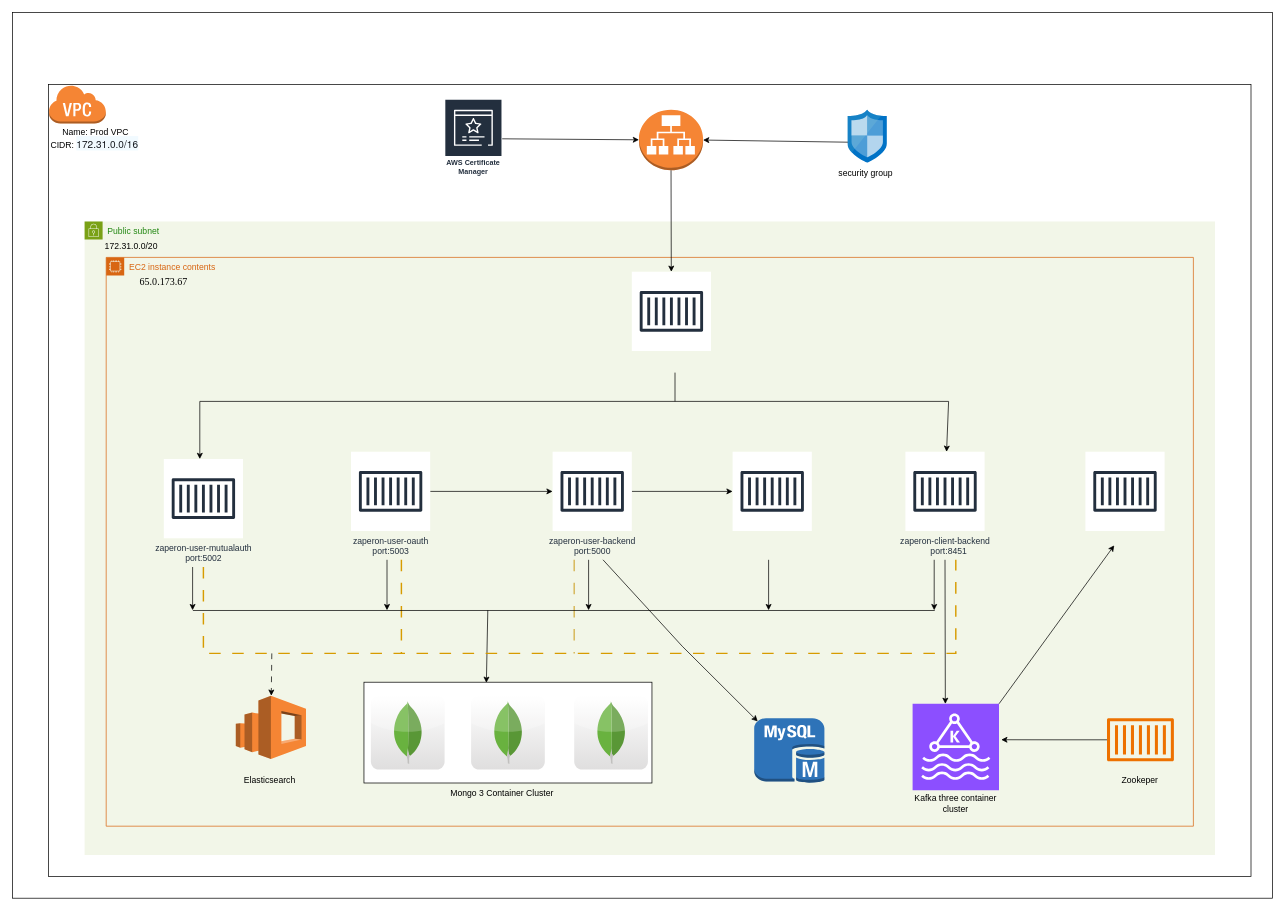
Image size: 1285x911. Some labels were removed from this diagram. Here are the shapes that lost their labels. From the top down, the centre of each, then its label:
At point 671,311: "zaperon-user port: 443".
At point 772,491: "zaperon-scim-server port: 9096".
At point 1125,491: "zaperon-notification-backend".
